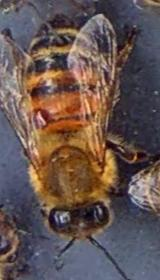varroa_mite: (17, 101, 59, 132)
